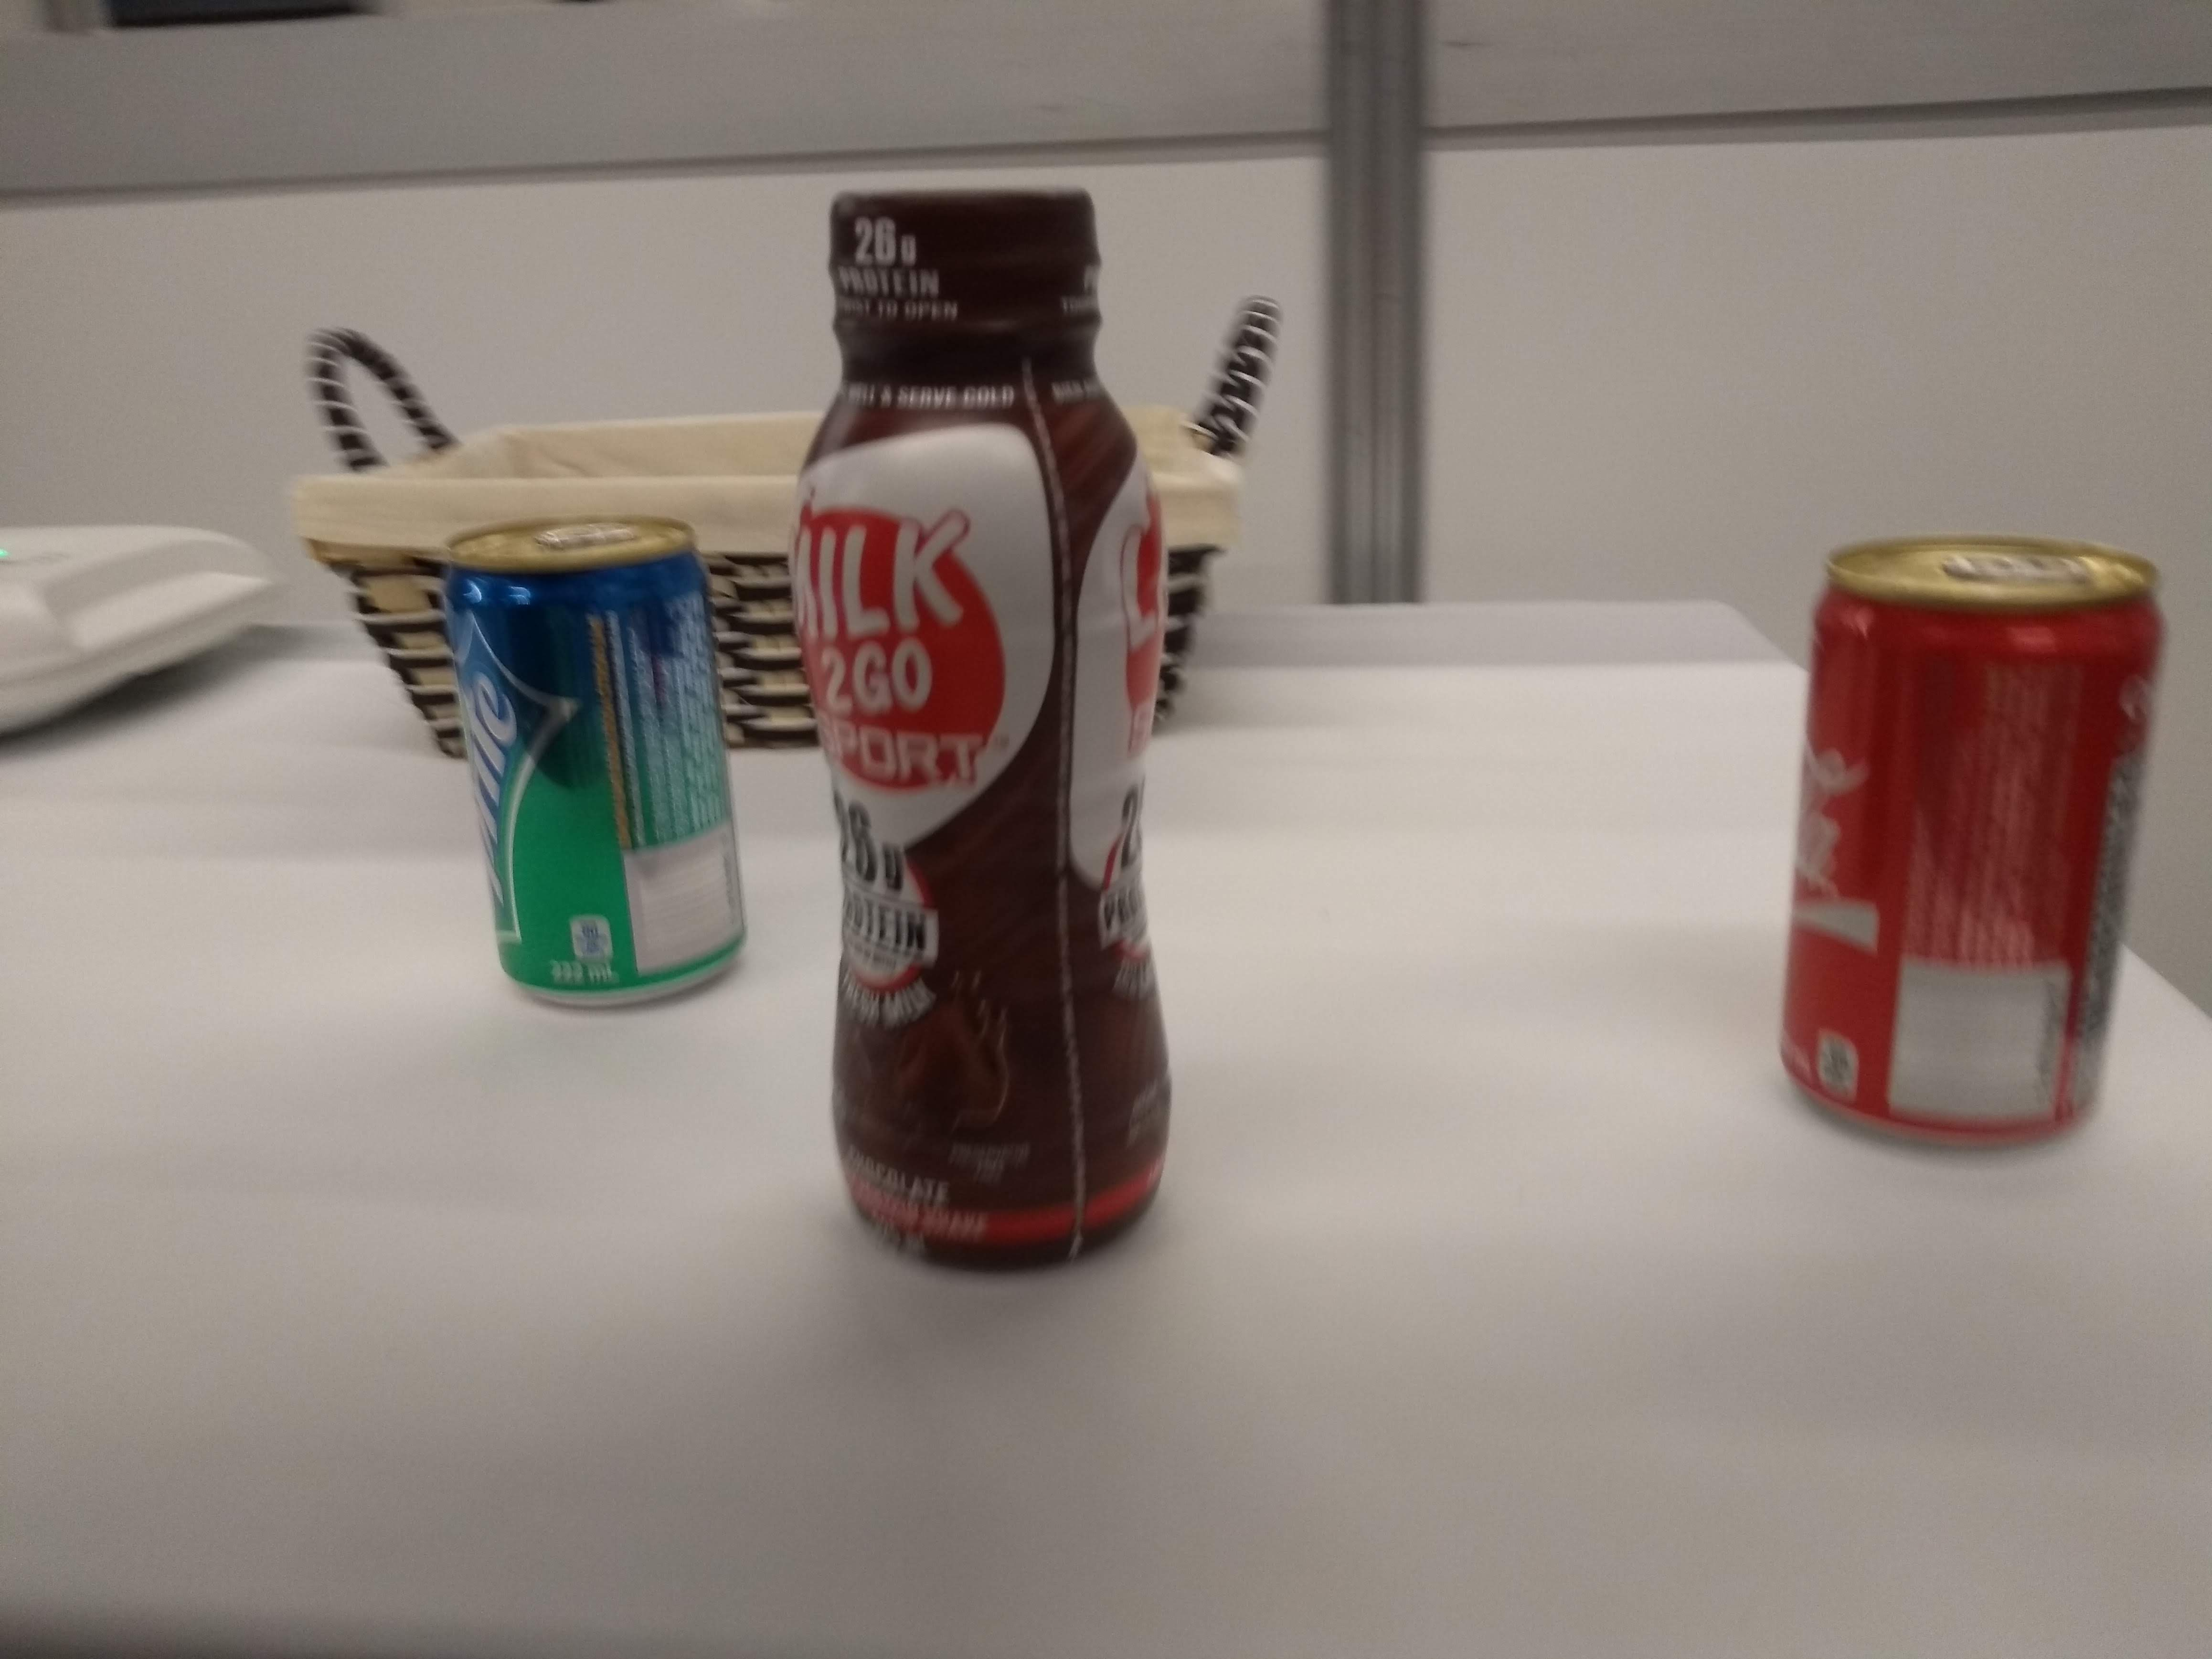chocolate_drink: (779, 173, 1186, 1288)
coke: (1759, 519, 2181, 1166)
sprite: (439, 505, 766, 1025)
